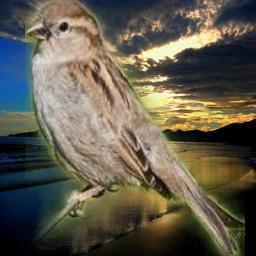Sparrow: (25, 0, 245, 256)
